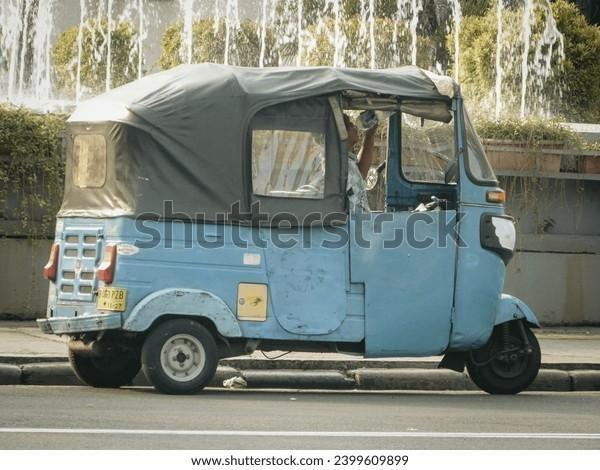keke: (23, 61, 548, 399)
